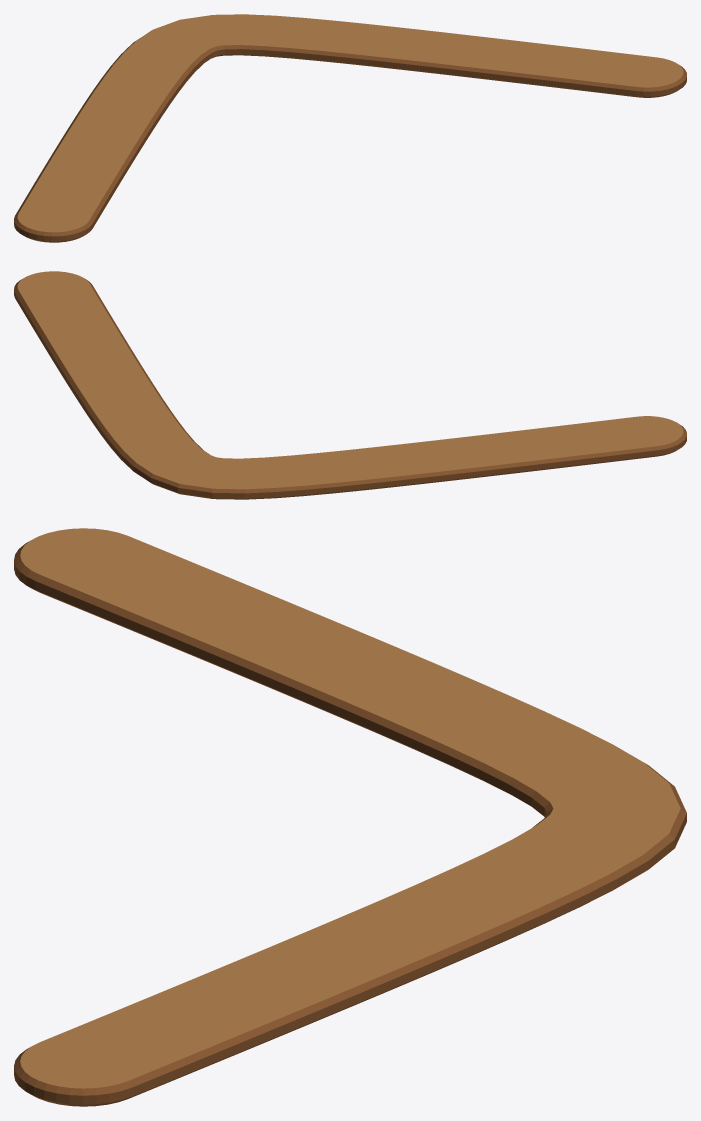
The model's file is NEW_RECOVERY_006_LOD0.fbx.
3 renders of one model, top to bottom at view 1: azimuth 30°, elevation 25°; view 2: azimuth 150°, elevation 25°; view 3: azimuth 270°, elevation 25°, orthographic. The views are drawn at different scales.
Parts seen in each view (by area): view 1: Boomerang; view 2: Boomerang; view 3: Boomerang.
Boxes of the visible parts, bbox=[...] form: Boomerang: bbox=[14, 14, 686, 242]; Boomerang: bbox=[14, 271, 686, 499]; Boomerang: bbox=[14, 528, 686, 1106].
Size of the model in its own units: 53.6 by 26.96 by 0.8.
